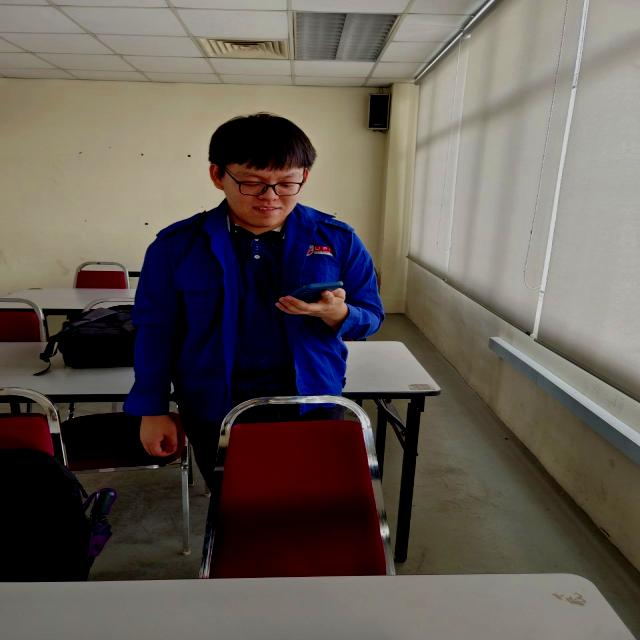person_with_labcoat: (123, 113, 384, 483)
